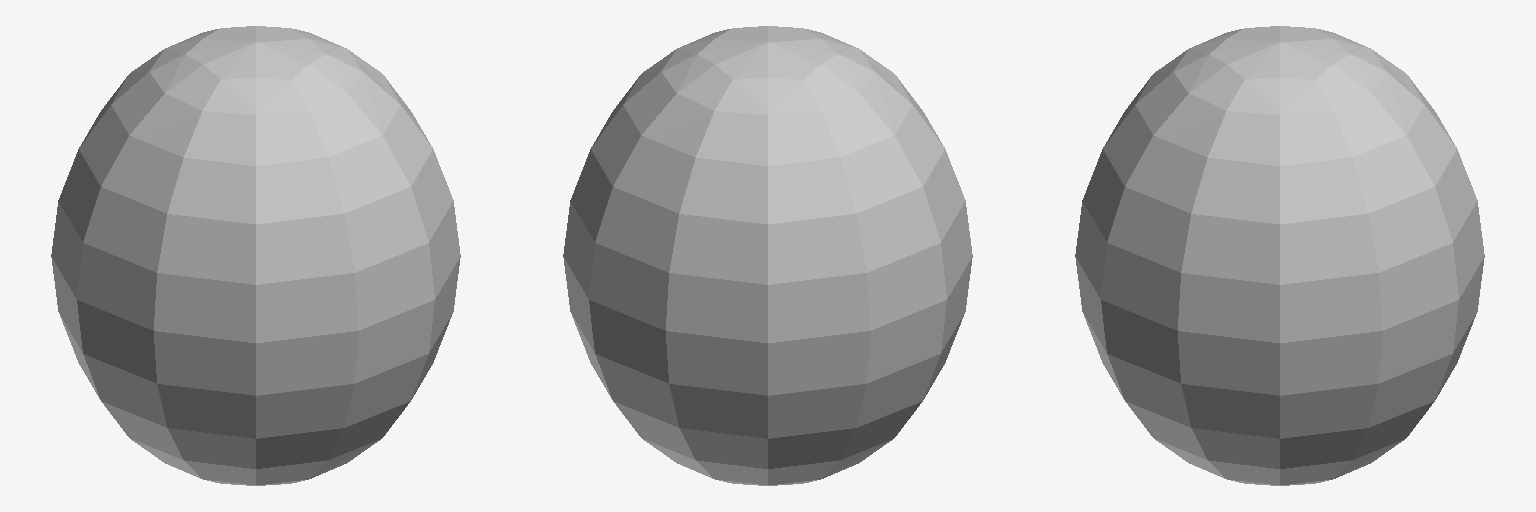
The model's file is Light_Bulb.obj.
The picture shows the model from 3 angles: view 1: azimuth 30°, elevation 25°; view 2: azimuth 150°, elevation 25°; view 3: azimuth 270°, elevation 25°; orthographic projection.
Visible parts, largest first — view 1: pSphere71; view 2: pSphere71; view 3: pSphere71.
Part boxes in pixels (x1,y1,x2,y2): pSphere71: (51,26,460,485); pSphere71: (563,26,972,485); pSphere71: (1075,26,1484,485).
Bounding box in the file's own units: 0.1691 × 0.1926 × 0.1674.